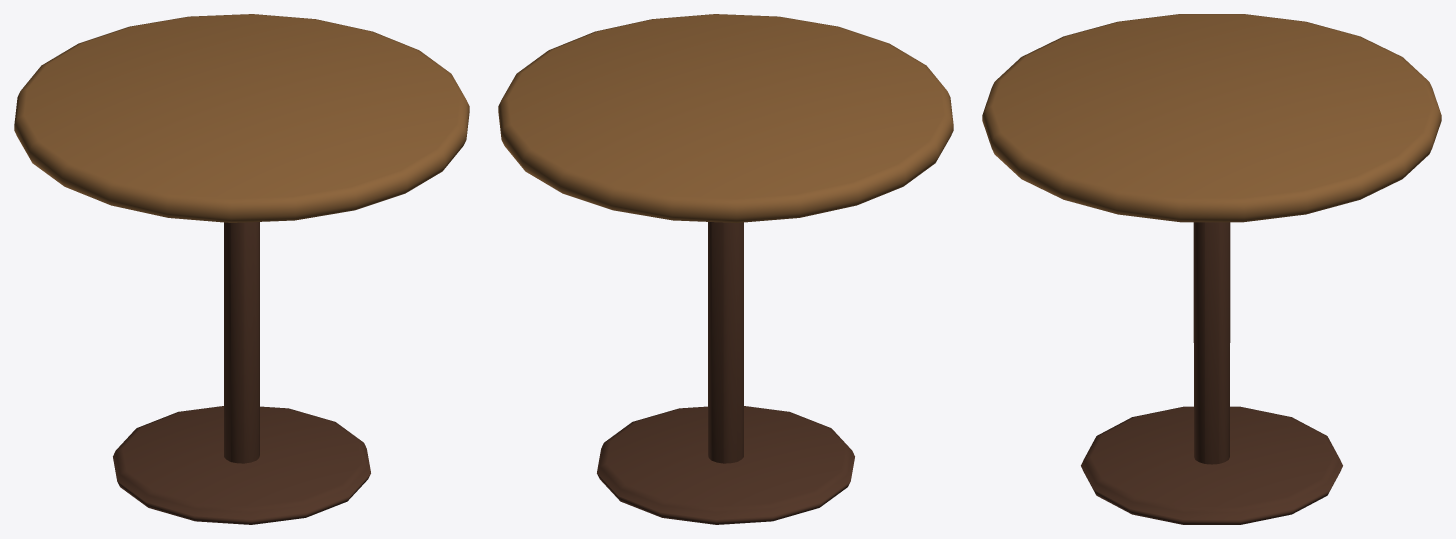
File: f_table_wood.glb
The picture shows the model from 3 angles, left to right: view 1: azimuth 30°, elevation 25°; view 2: azimuth 150°, elevation 25°; view 3: azimuth 270°, elevation 25°; orthographic projection.
Parts seen in each view (by area): view 1: f_table_wood; view 2: f_table_wood; view 3: f_table_wood.
Part boxes in pixels (x1=…): f_table_wood: x1=14, y1=14, x2=469, y2=524; f_table_wood: x1=498, y1=14, x2=953, y2=524; f_table_wood: x1=982, y1=14, x2=1441, y2=524.
Bounding box in the file's own units: 1.39 × 1.24 × 1.4.
